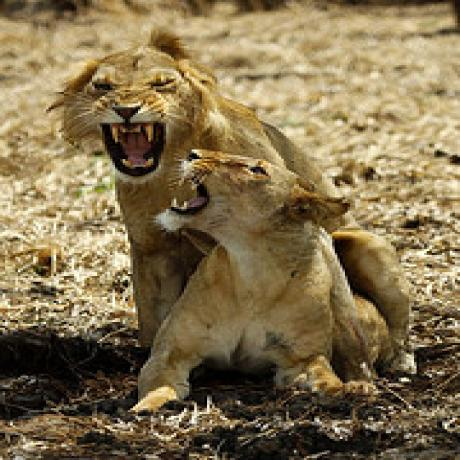Lion: (160, 148, 354, 392), (55, 40, 300, 188)
